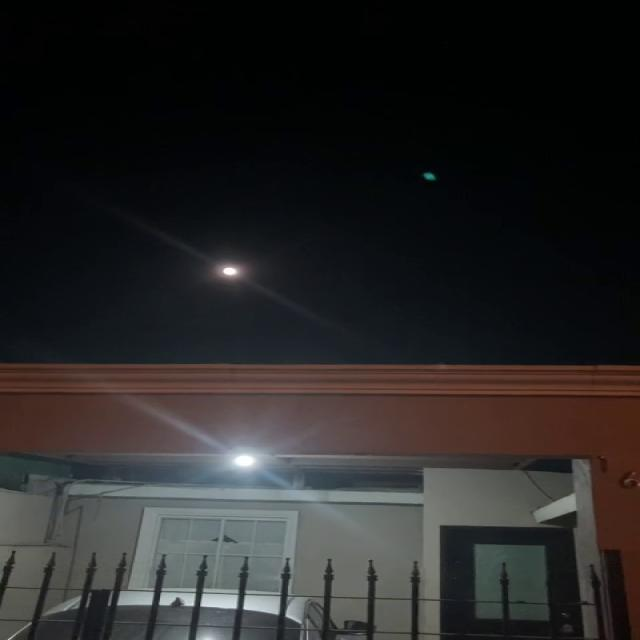moon: (219, 195, 273, 226)
